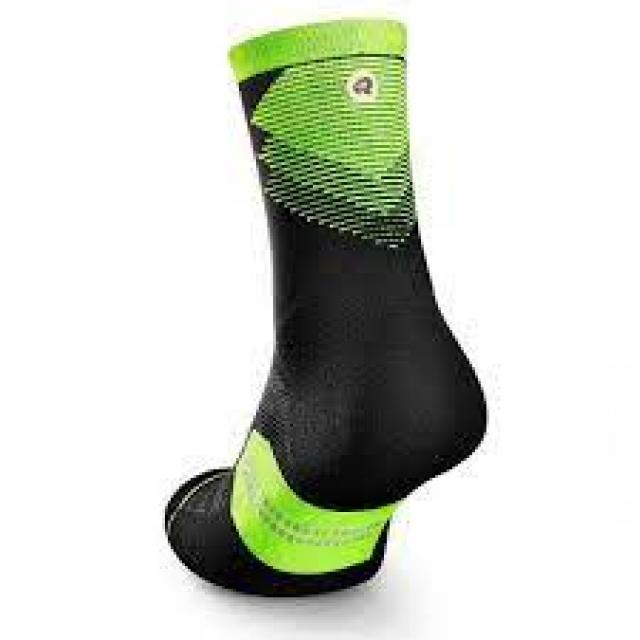Clothes -Biodegradable-: (164, 12, 486, 600)
